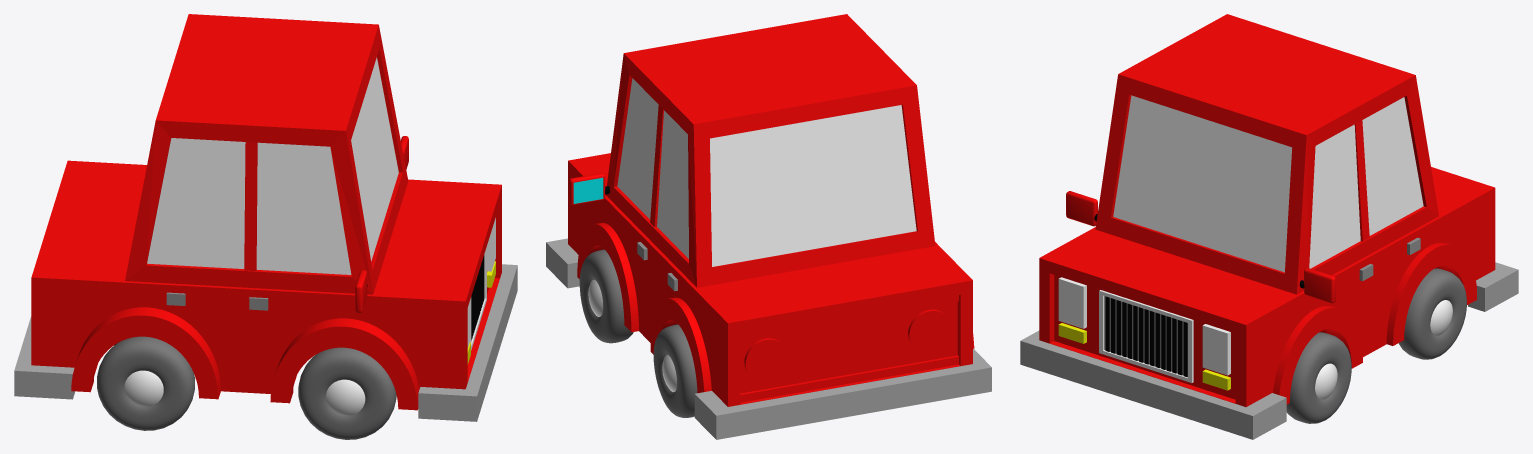
File: carroRojo.glb
3 renders of one model, left to right at view 1: azimuth 30°, elevation 25°; view 2: azimuth 150°, elevation 25°; view 3: azimuth 270°, elevation 25°, orthographic. The views are drawn at different scales.
Parts seen in each view (by area): view 1: Object017; view 2: Object017; view 3: Object017.
Boxes of the visible parts, x1,y1,x2,y2 form: Object017: [14, 14, 517, 439]; Object017: [546, 14, 991, 439]; Object017: [1020, 14, 1518, 439].
Bounding box in the file's own units: 3.71 × 2.18 × 3.52.
